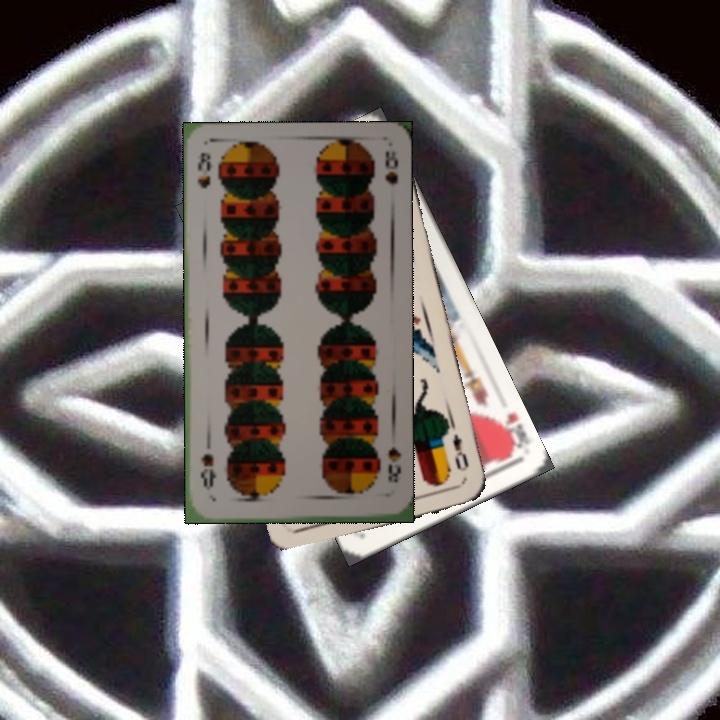EO: (448, 430, 471, 474)
HK: (490, 408, 533, 458)
S8: (193, 149, 214, 191), (384, 443, 404, 486)
